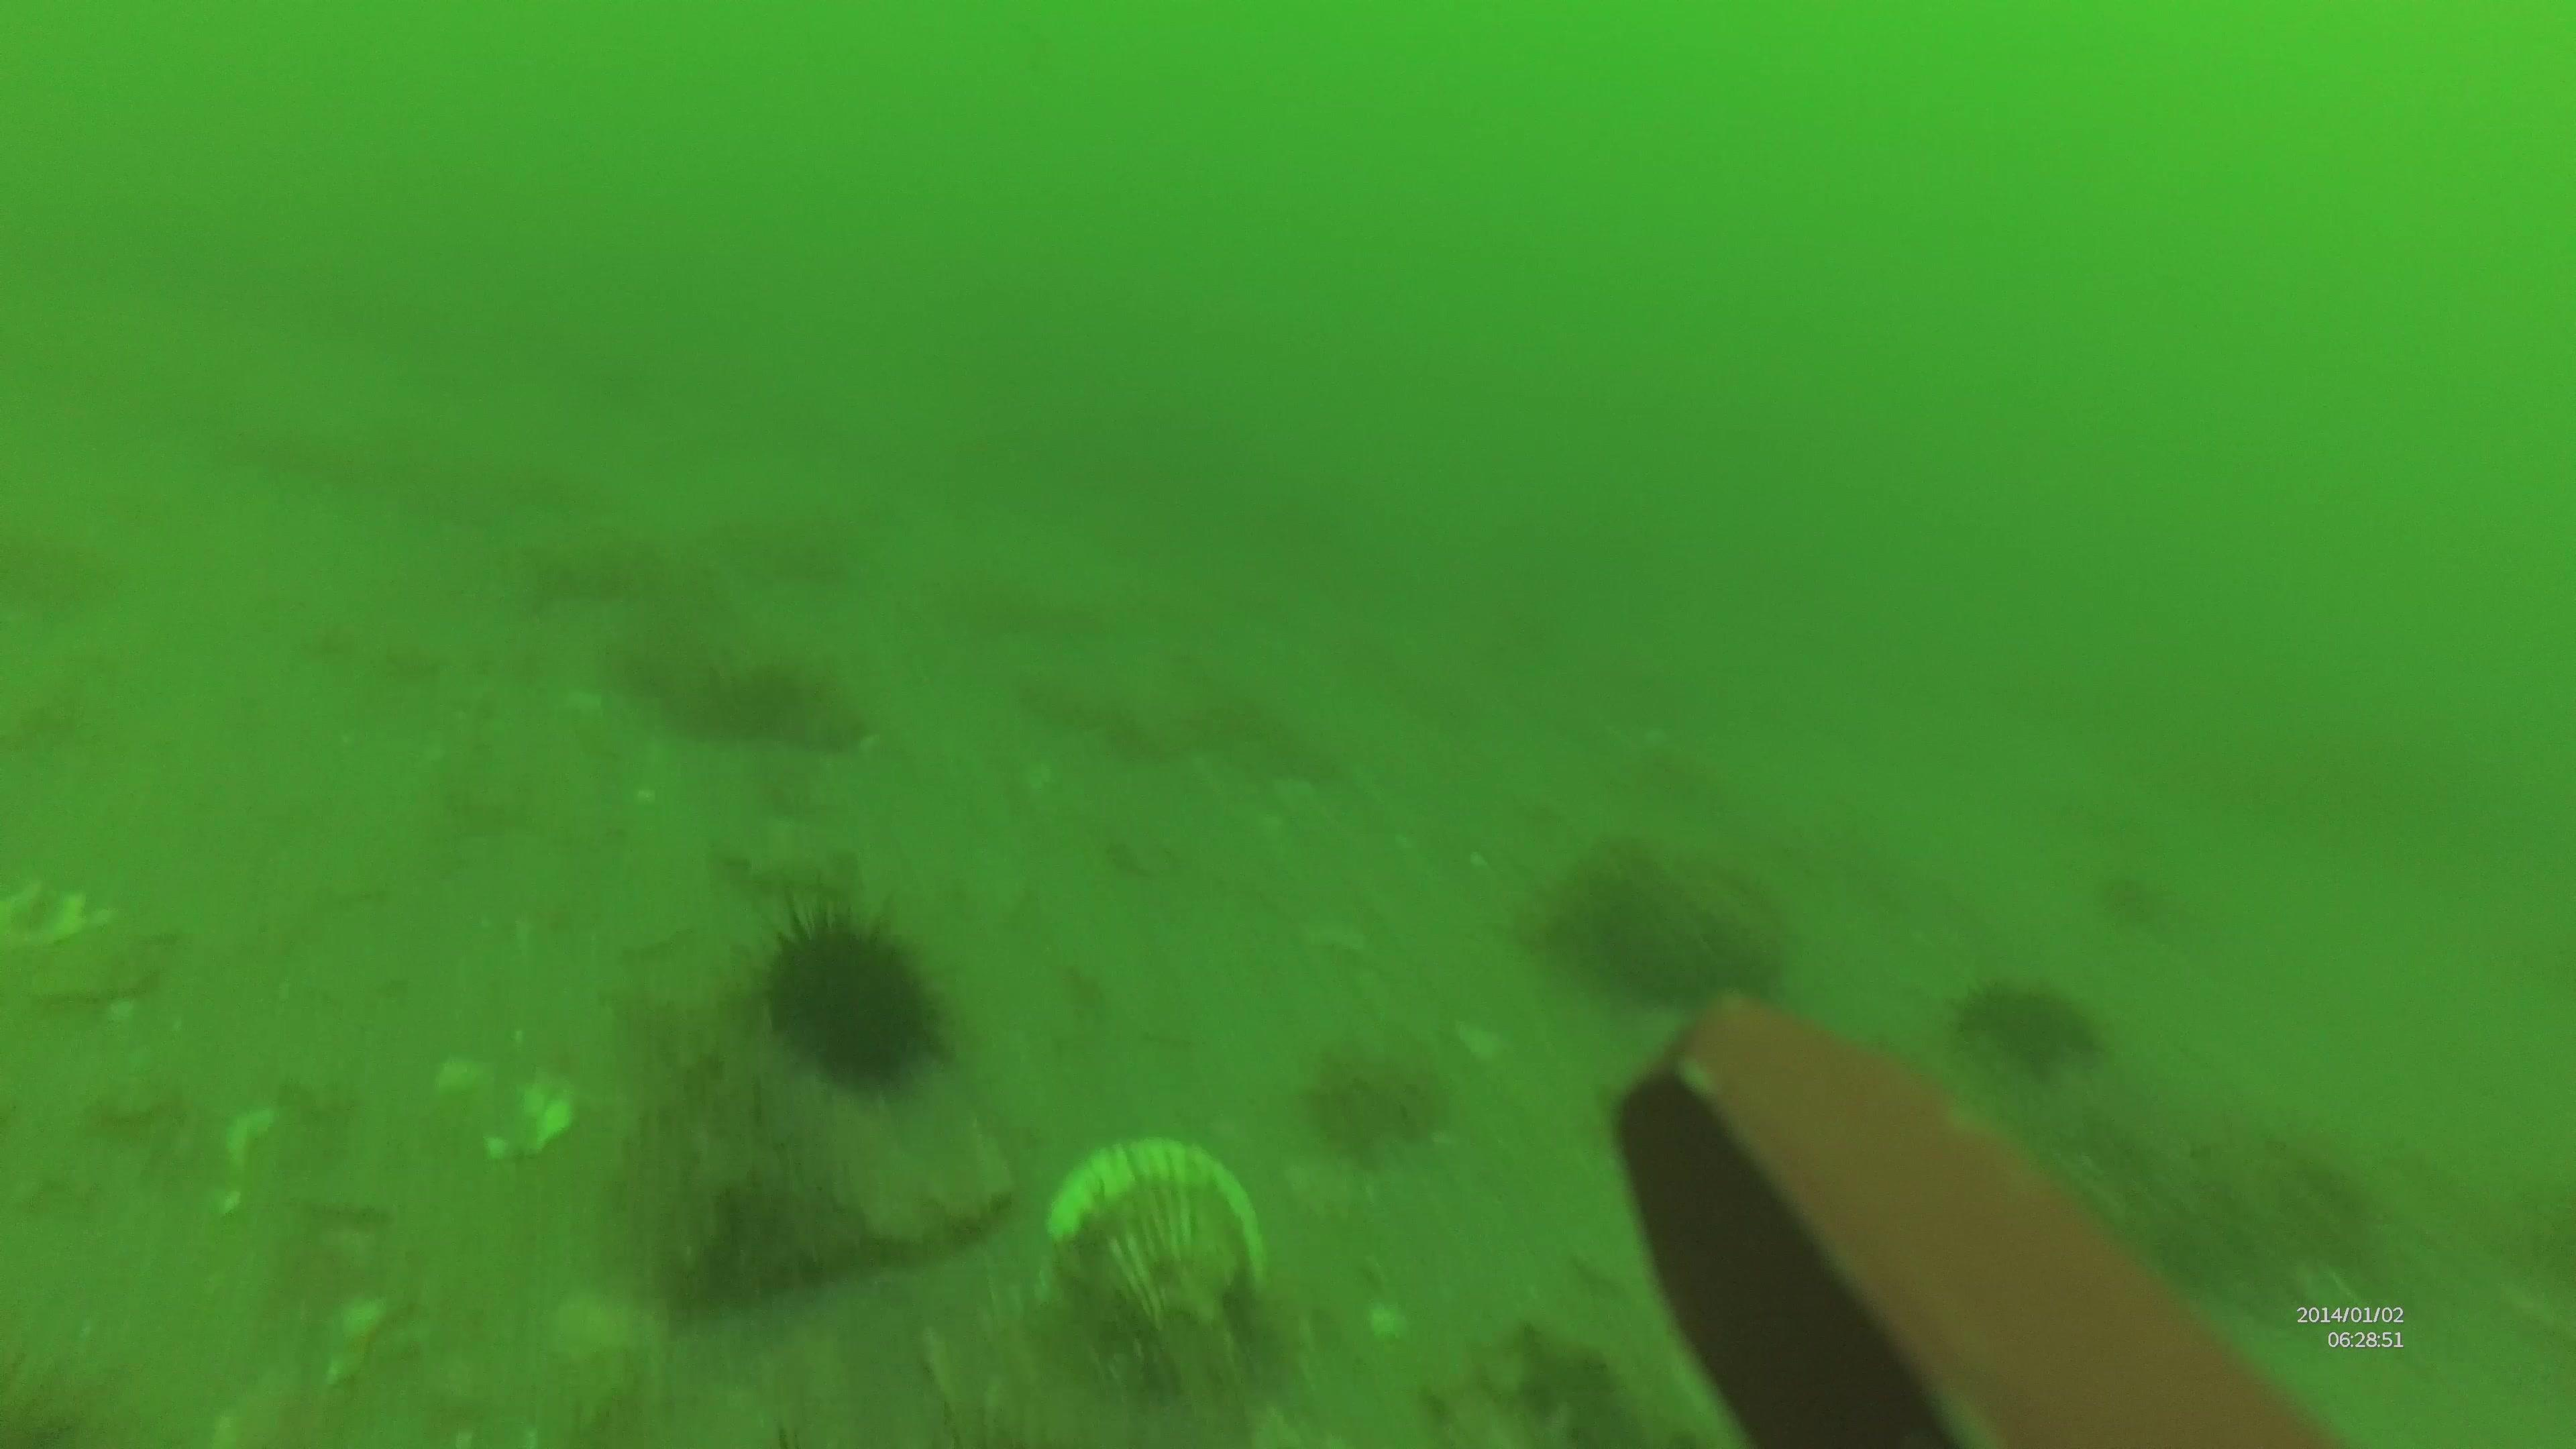echinus: (750, 897, 947, 1099), (1951, 977, 2095, 1079)
scallop: (1042, 1131, 1277, 1336)
